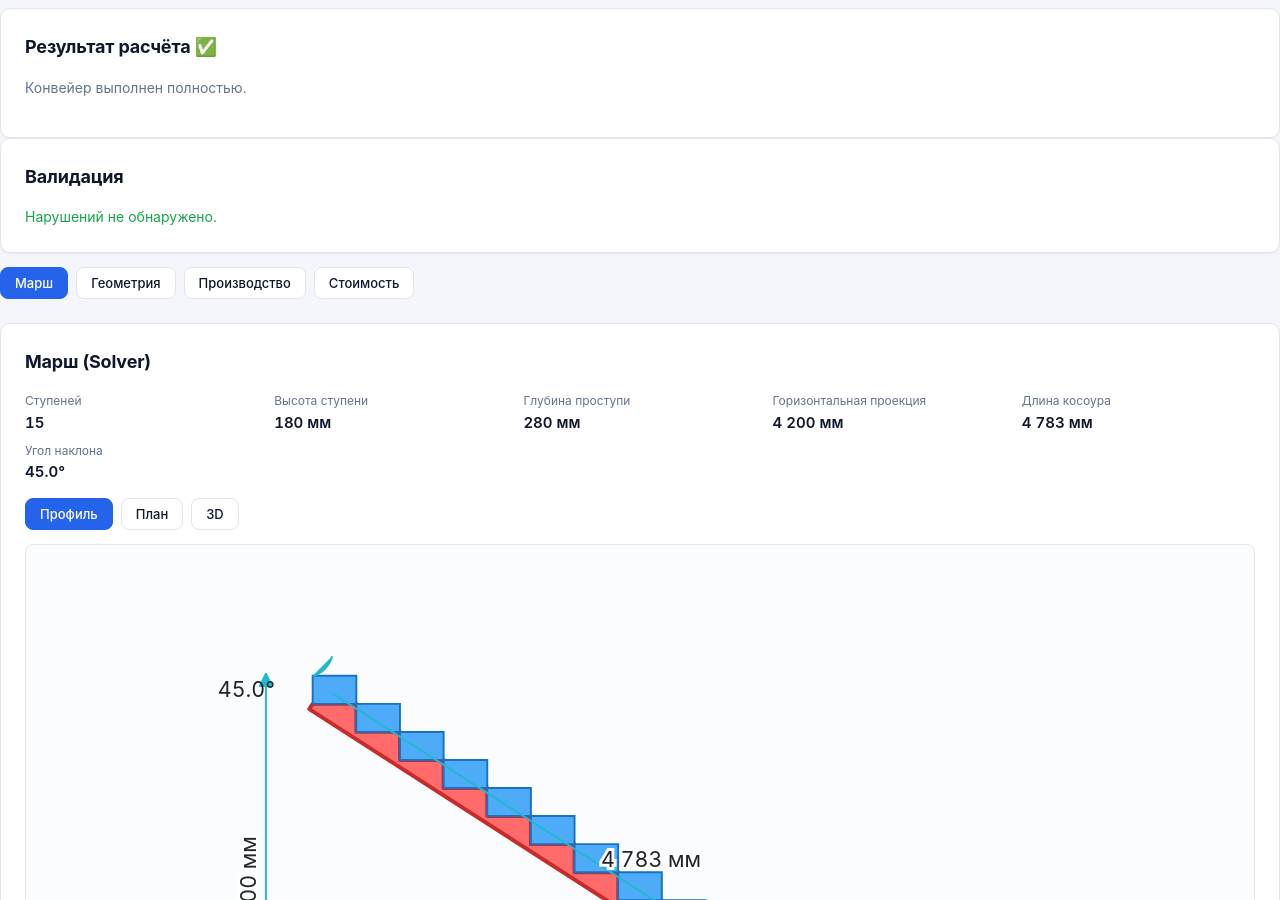
Test case: ResultPanel › переключает вкладки чертёжной секции: профиль, план, 3D
Expected: the tab "Профиль" is shown, [25, 498, 113, 530]
Expected: the tab "3D" is shown, [191, 498, 239, 530]
Click the tab "План" at point(152, 514), box [121, 498, 183, 530]
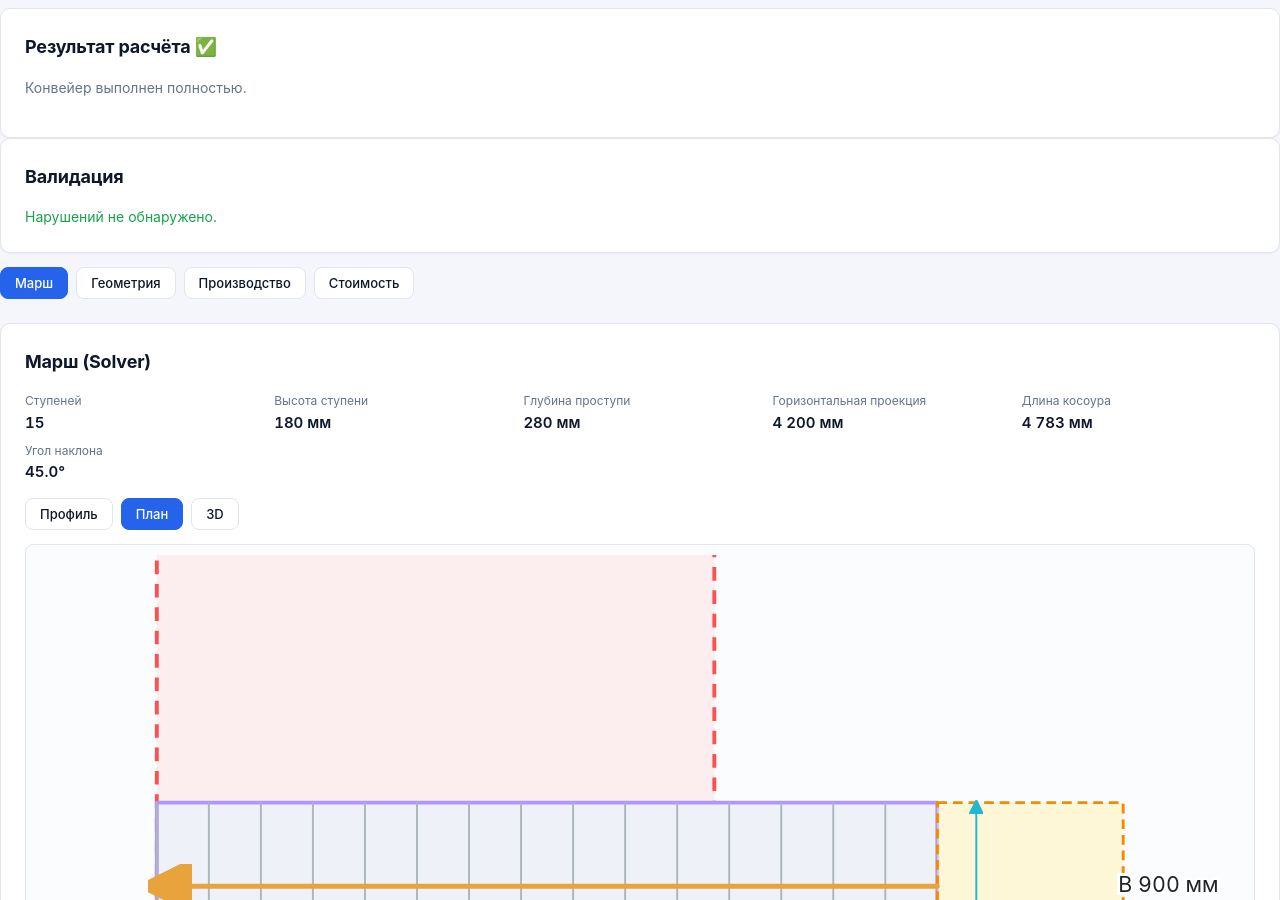
Click the tab "3D" at point(215, 514), box [191, 498, 239, 530]
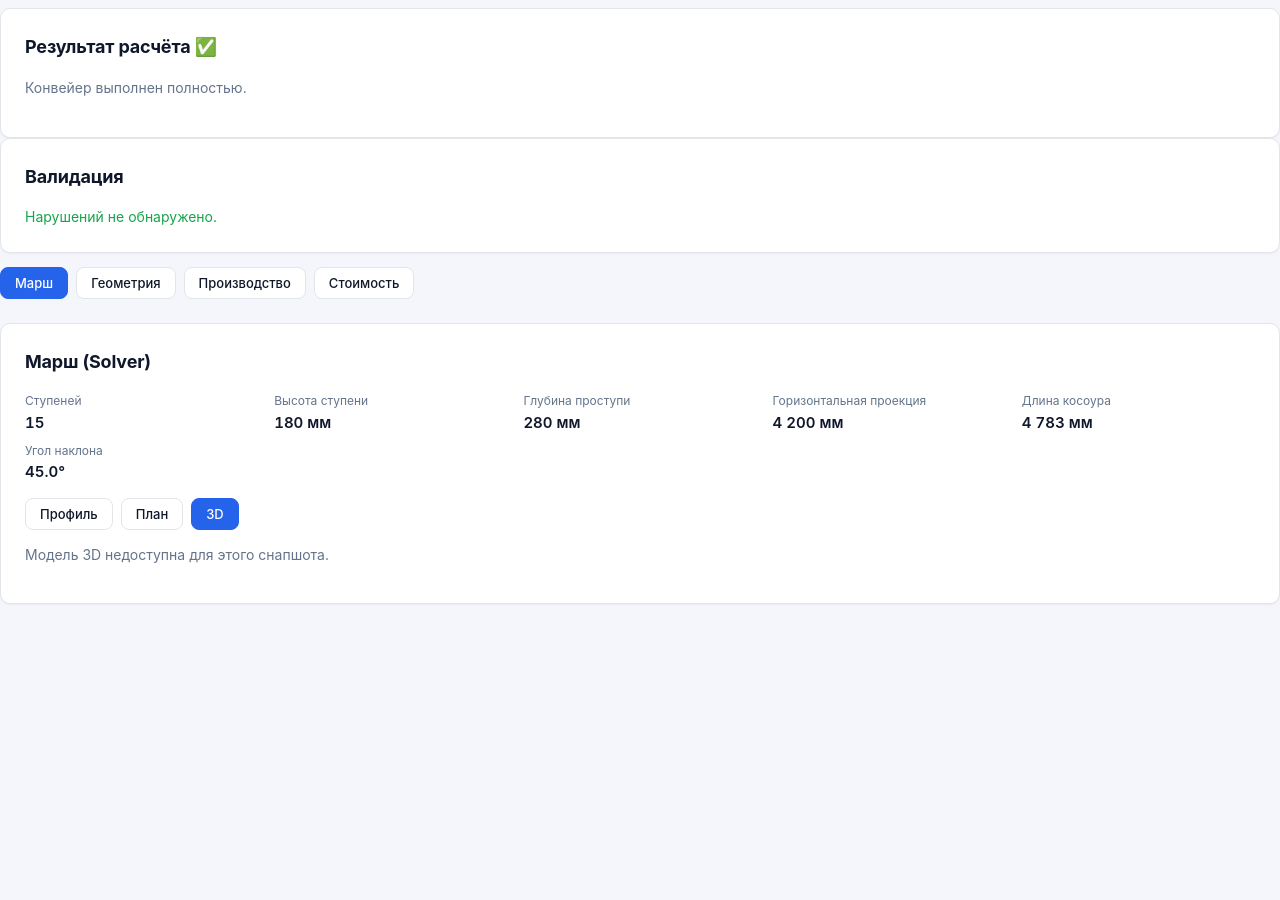
Now the text "Модель 3D недоступна для этого снапшота." is shown, box [25, 546, 329, 563]
